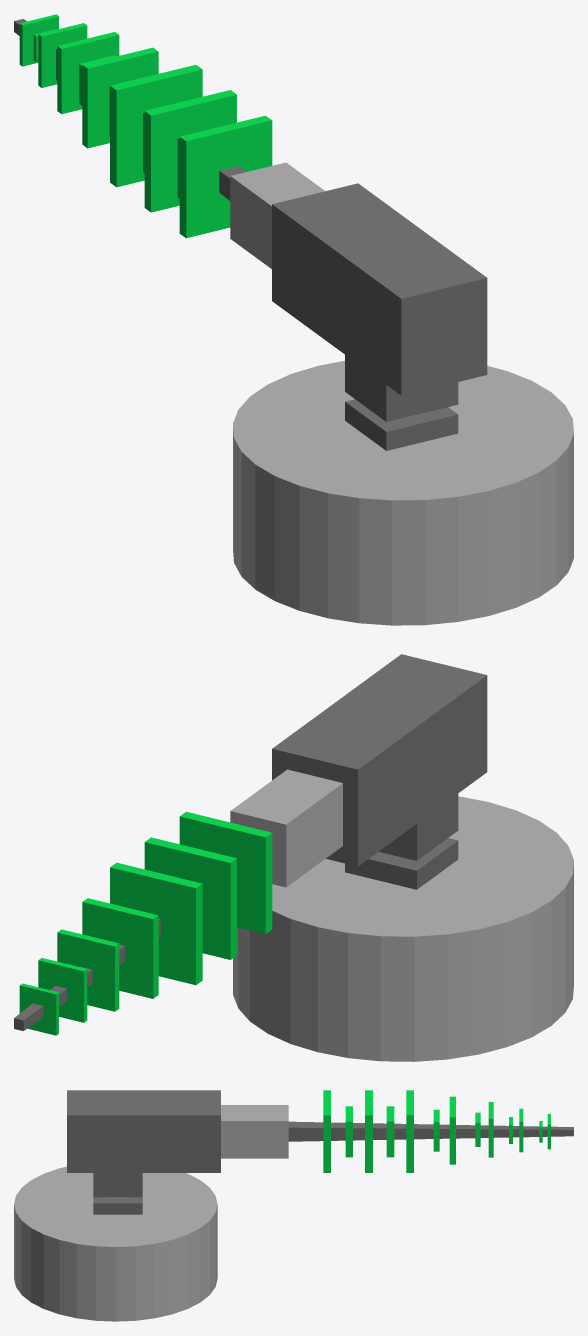
The model's file is turret3.fbx.
3 views of the same model, one above another, from view 1: azimuth 30°, elevation 25°; view 2: azimuth 150°, elevation 25°; view 3: azimuth 270°, elevation 25° (orthographic). The views are drawn at different scales.
Parts seen in each view (by area): view 1: Cylinder; view 2: Cylinder; view 3: Cylinder.
Part boxes in pixels (x1=…): Cylinder: x1=14, y1=14, x2=573, y2=625; Cylinder: x1=14, y1=654, x2=573, y2=1061; Cylinder: x1=14, y1=1090, x2=573, y2=1321.
Size of the model in its own units: 160 by 152 by 440.
